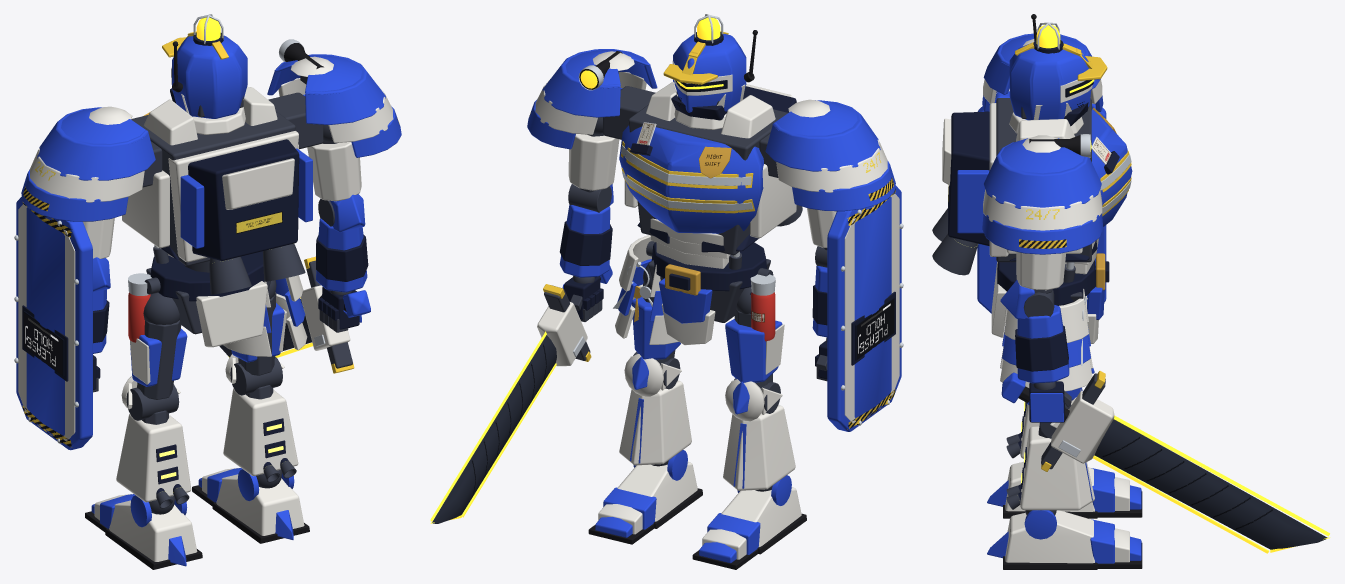
File: mech_nightshift_concept.glb
3 renders of one model, left to right at view 1: azimuth 30°, elevation 25°; view 2: azimuth 150°, elevation 25°; view 3: azimuth 270°, elevation 25°, orthographic. The views are drawn at different scales.
Visible parts, largest first — view 1: shield_mesh, backpack_mesh, shoulder_L_mesh, chest_mesh, shoulder_R_mesh, hips_mesh, shin_L_mesh, shin_R_mesh, head_mesh, foot_R_mesh, foot_L_mesh, forearm_R_mesh (+13 smaller); view 2: shield_mesh, hatch_mesh, shoulder_L_mesh, shoulder_R_mesh, hips_mesh, sword_mesh, chest_mesh, shin_L_mesh, shin_R_mesh, head_mesh, forearm_R_mesh, thigh_L_mesh (+14 smaller); view 3: sword_mesh, shoulder_R_mesh, backpack_mesh, head_mesh, foot_R_mesh, forearm_R_mesh, shin_R_mesh, chest_mesh, hips_mesh, hatch_mesh, skirt_R_mesh, shoulder_L_mesh (+8 smaller).
Part boxes in pixels (x1,y1,x2,y2): shield_mesh: (14,196,92,450); backpack_mesh: (180,139,312,294); shoulder_L_mesh: (21,106,162,221); chest_mesh: (122,86,298,265); shoulder_R_mesh: (267,39,401,157); hips_mesh: (128,251,270,347); shin_L_mesh: (116,376,191,508); shin_R_mesh: (223,354,298,482); head_mesh: (162,31,247,118); foot_R_mesh: (212,469,309,543); foot_L_mesh: (105,495,202,569); forearm_R_mesh: (316,194,368,292); shield_mesh: (827,185,903,431); hatch_mesh: (619,122,763,233); shoulder_L_mesh: (759,99,895,211); shoulder_R_mesh: (527,49,657,149); hips_mesh: (613,242,775,345); sword_mesh: (430,265,612,523); chest_mesh: (624,82,796,255); shin_L_mesh: (723,378,795,490); shin_R_mesh: (619,351,691,465); head_mesh: (663,30,757,120); forearm_R_mesh: (559,184,613,277); thigh_L_mesh: (725,287,784,387); sword_mesh: (1001,371,1330,553); shoulder_R_mesh: (982,134,1103,254); backpack_mesh: (932,111,989,275); head_mesh: (1009,14,1107,126); foot_R_mesh: (987,510,1097,569); forearm_R_mesh: (1000,280,1069,383); shin_R_mesh: (1006,397,1094,510); chest_mesh: (989,98,1097,262); hips_mesh: (991,253,1109,365); hatch_mesh: (1091,108,1132,226); skirt_R_mesh: (1000,298,1092,391); shoulder_L_mesh: (982,33,1103,111).
Size of the model in its own units: 4.35 by 5.93 by 4.2.
Materials: 27 (11 with a texture image).
